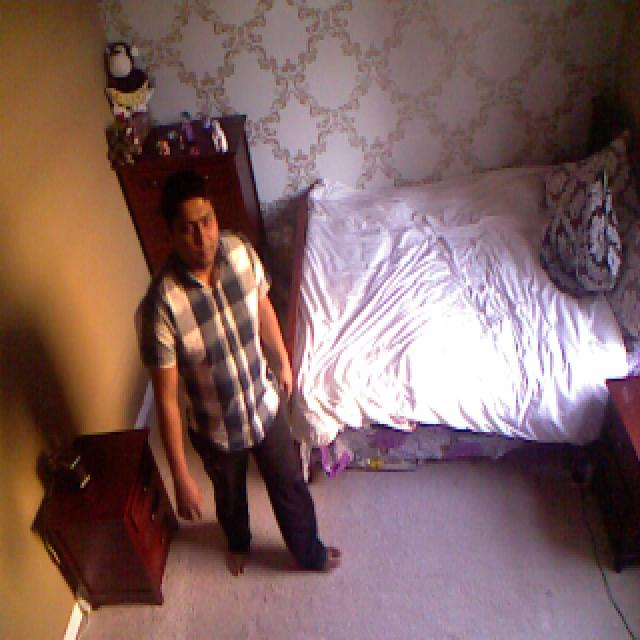standing: (137, 176, 342, 588)
